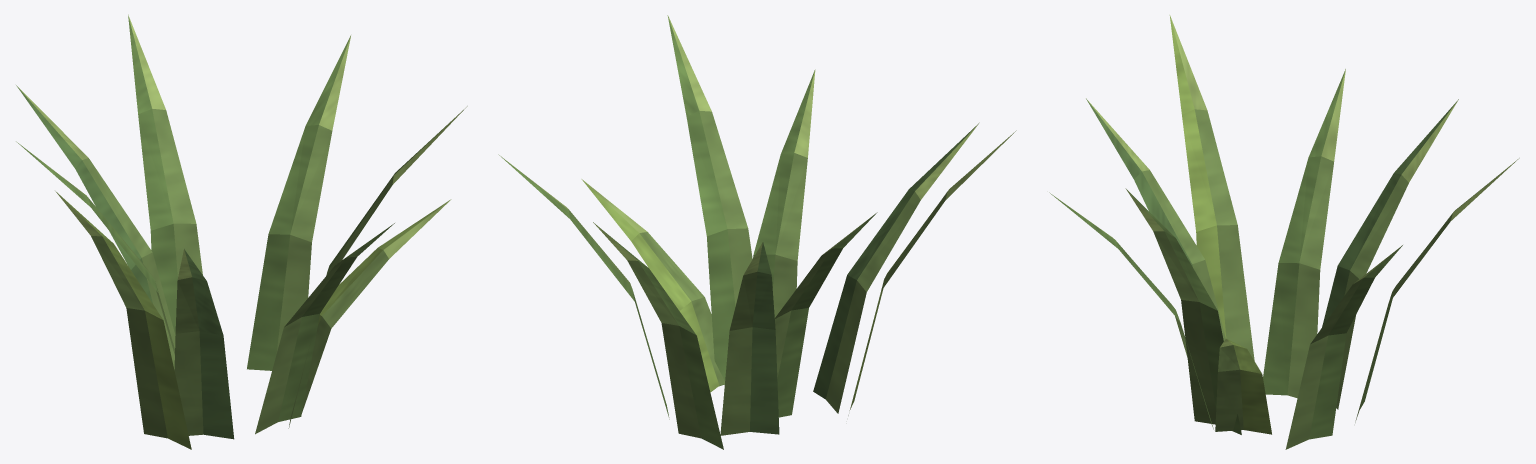
Rendered from grass_clump_short_02.fbx.
3 views of the same model, side by side, from view 1: azimuth 30°, elevation 25°; view 2: azimuth 150°, elevation 25°; view 3: azimuth 270°, elevation 25° (orthographic). The views are drawn at different scales.
Parts seen in each view (by area): view 1: grass_clump_short_02; view 2: grass_clump_short_02; view 3: grass_clump_short_02.
Part boxes in pixels (x1,y1,x2,y2): grass_clump_short_02: [16, 14, 467, 449]; grass_clump_short_02: [498, 15, 1016, 449]; grass_clump_short_02: [1049, 15, 1519, 449].
Size of the model in its own units: 53.17 by 37.67 by 54.
Materials: 1 (1 with a texture image).
